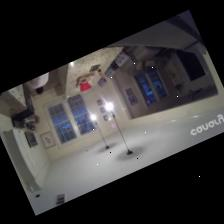person: (29, 73, 48, 93)
